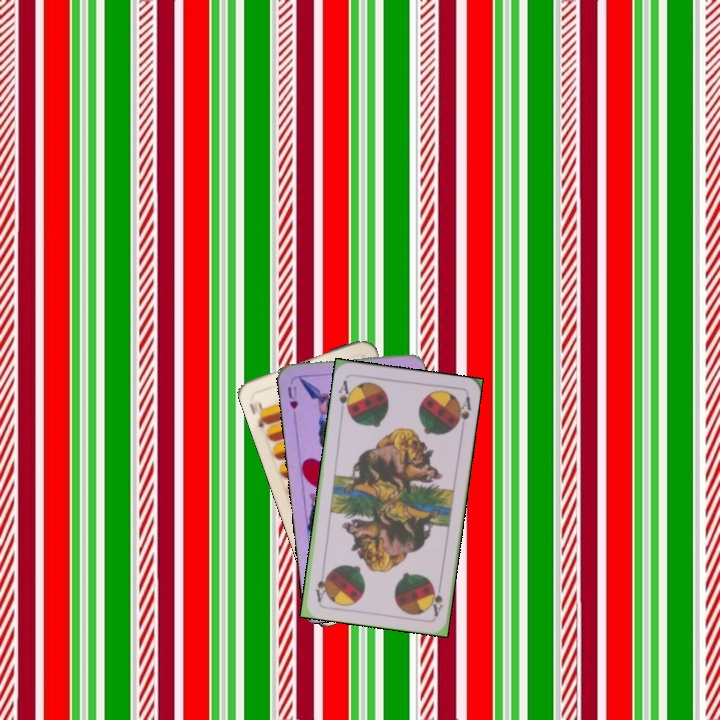E10: (253, 397, 272, 430)
HU: (283, 382, 301, 411)
SA: (334, 376, 355, 416), (427, 578, 445, 619)
